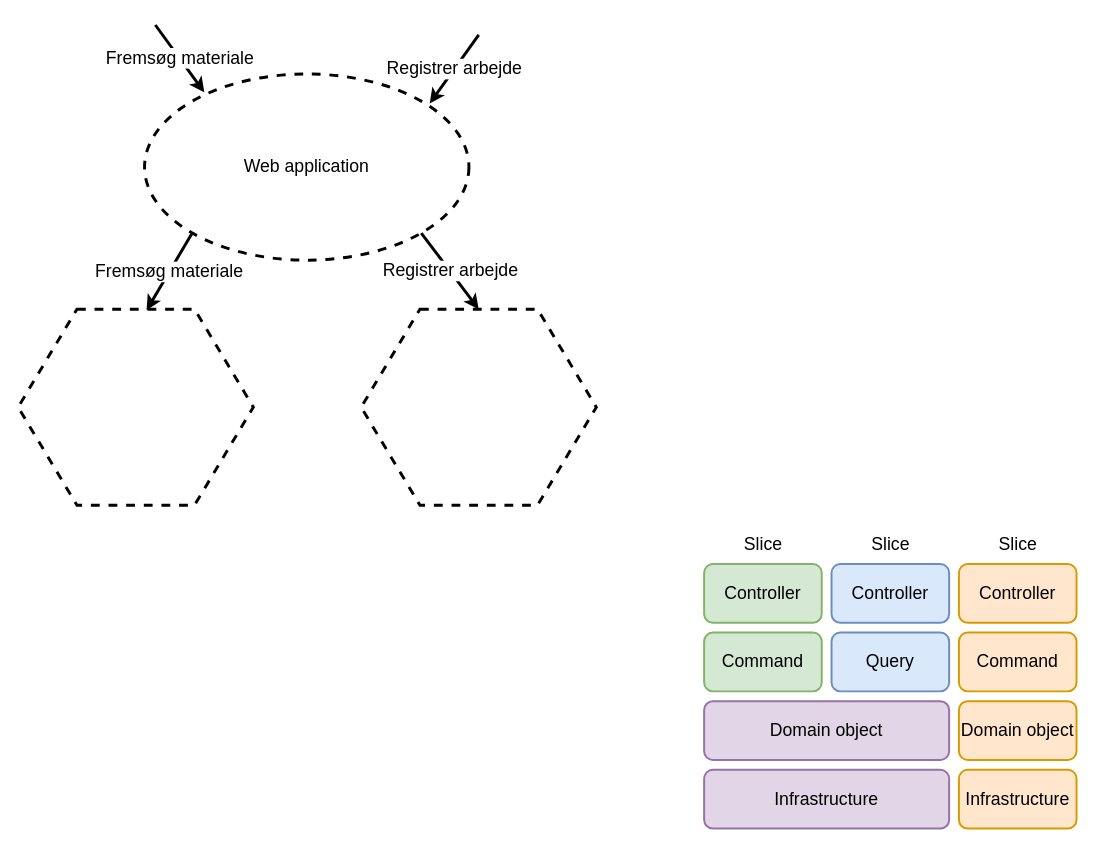
Some shapes in this 1095 by 847 pixel diagram are drawn without their labels. The shapes that lost their labels are listed below. From the top down, each one's box as (x1, y1, x2, y2) in pixels, then its label:
(16, 307, 254, 506): Catalog
(359, 307, 597, 506): Akkord
